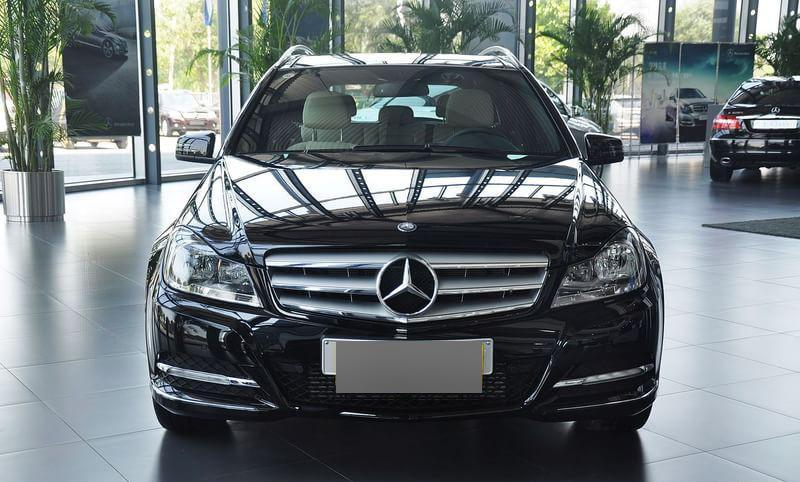Wagon: (143, 44, 666, 434)
